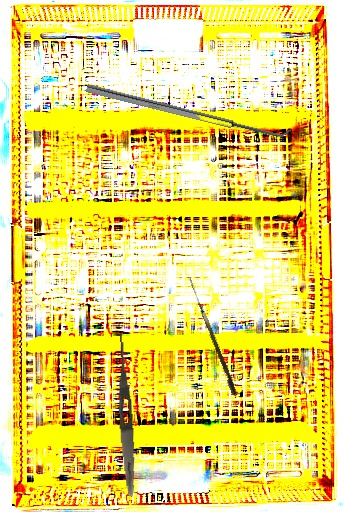Dressing Forceps: (112, 331, 139, 497)
Hook Surgical: (183, 277, 240, 396)
Spatula Surgical: (85, 76, 293, 143)
